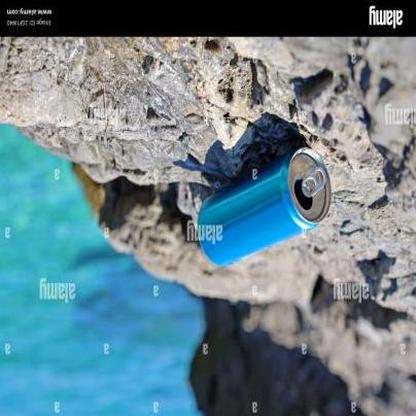can: (194, 144, 332, 262)
